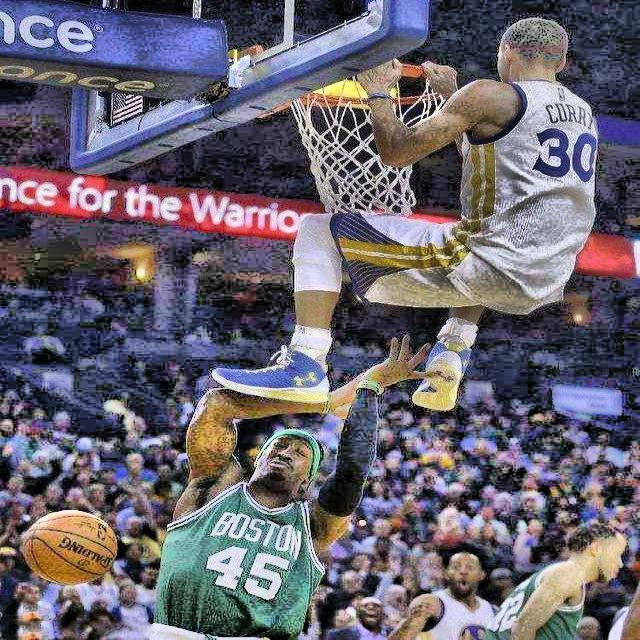board: (19, 510, 118, 586)
